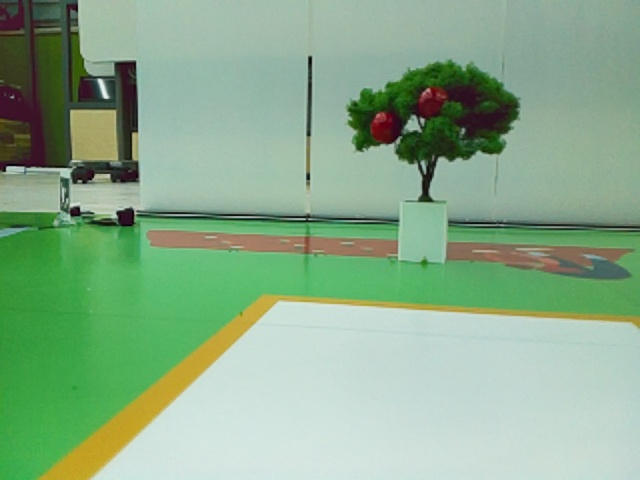apple: (418, 88, 448, 115), (370, 112, 393, 143)
